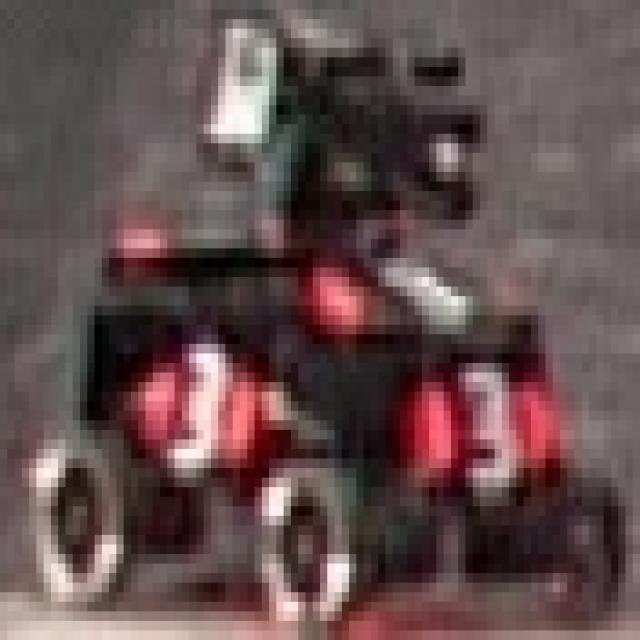R3: (393, 353, 567, 497), (131, 334, 247, 468)
